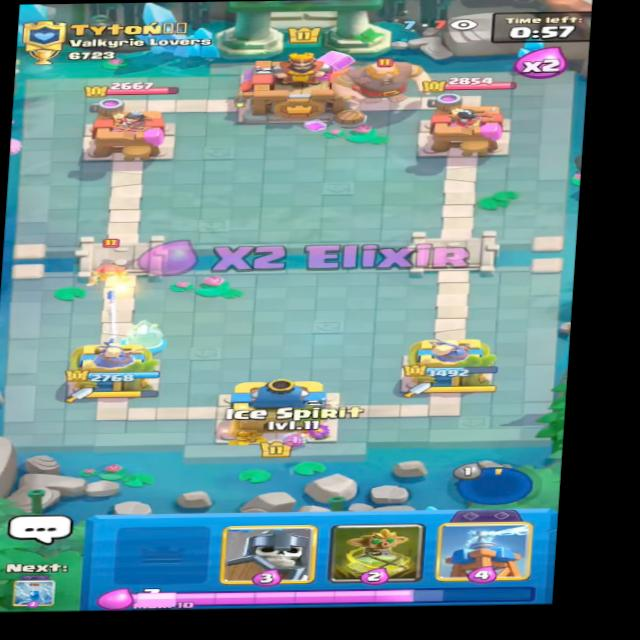Giant: (322, 57, 439, 107)
Wizard: (82, 243, 132, 283)
